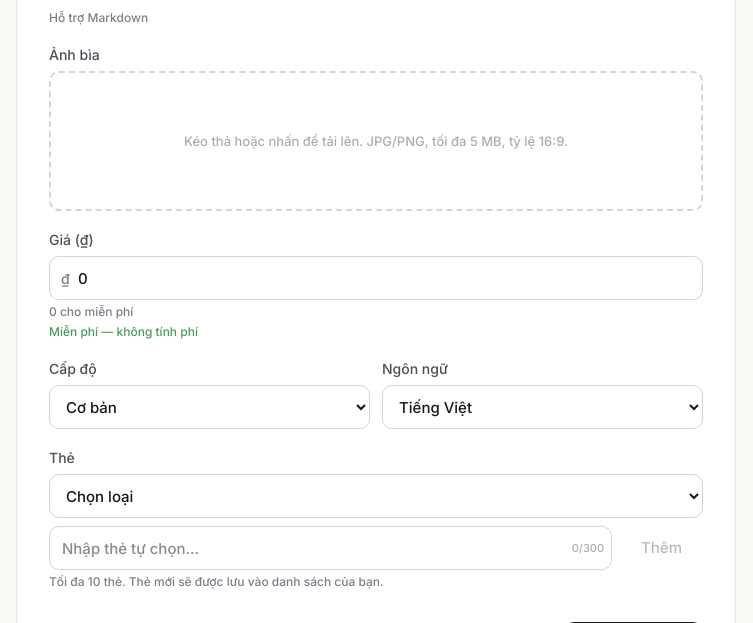
it: NewCoursePage › shows 0% platform fee for admin role
(page scrolled)
Replace the text in the number field with test id "course-price-input" with "100000". click: (376, 278)
box: [49,256,703,300]
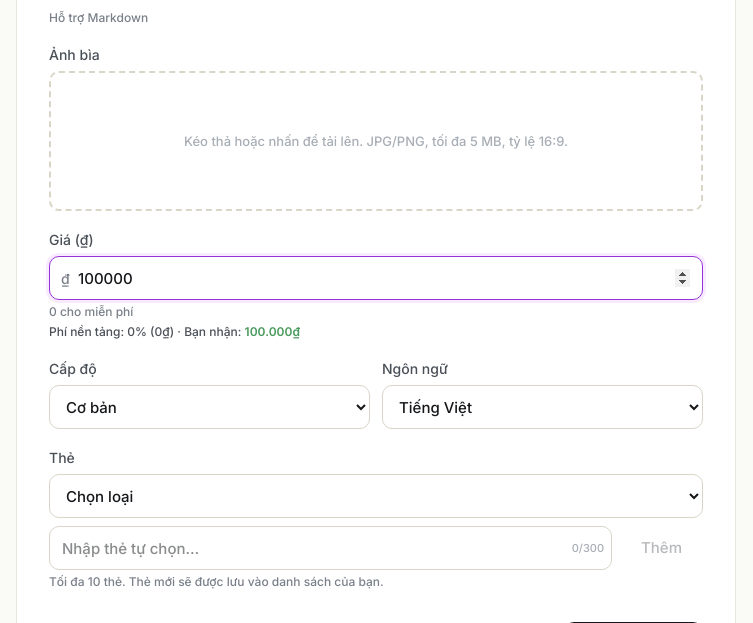
Now the element with test id "fee-preview" shows "0%", box [127,324,147,339]
Now the element with test id "fee-preview" shows "0₫", box [150,324,174,339]
Now the element with test id "fee-preview" shows "100.000₫", box [245,324,300,339]
